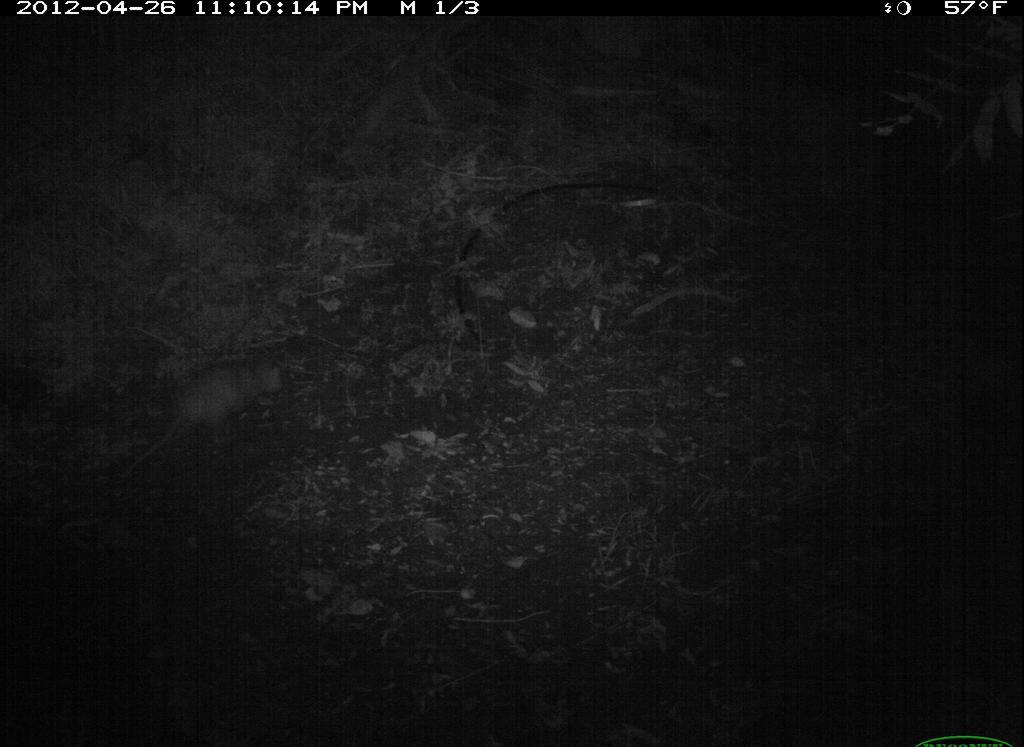opossum: (116, 351, 295, 488)
